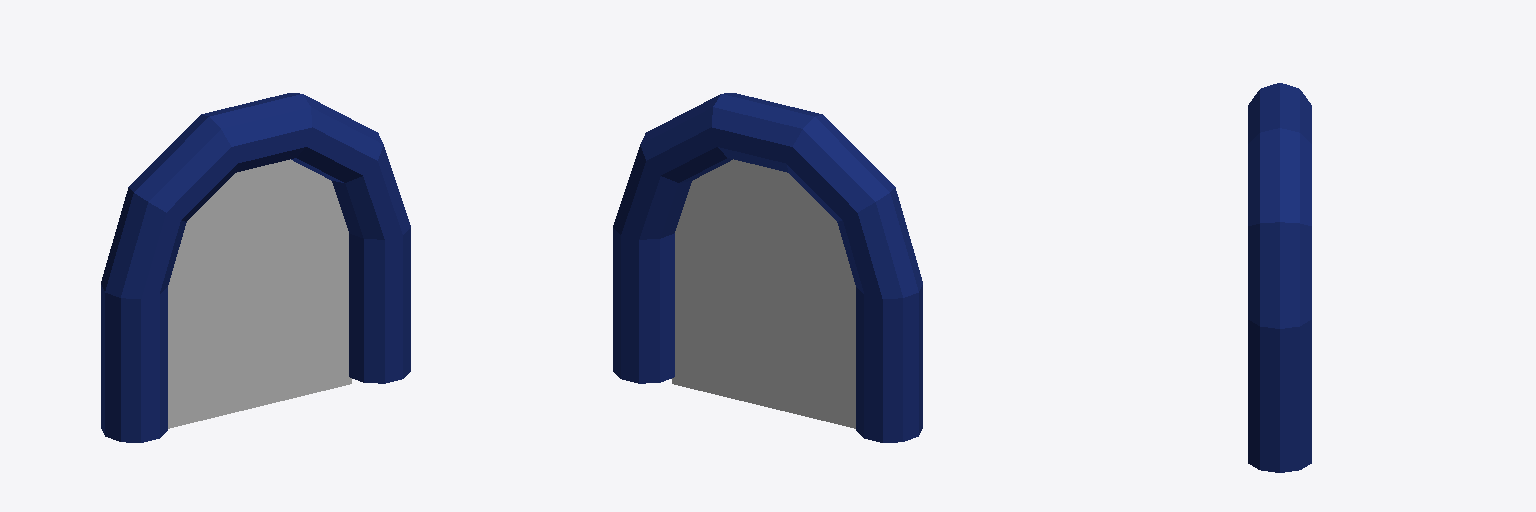
Rendered from PortalObject.obj.
3 renders of one model, left to right at view 1: azimuth 30°, elevation 25°; view 2: azimuth 150°, elevation 25°; view 3: azimuth 270°, elevation 25°, orthographic.
Parts seen in each view (by area): view 1: PortalFrame, PortalFrame Portal; view 2: PortalFrame, PortalFrame Portal; view 3: PortalFrame.
Part boxes in pixels (bbox=[...]): PortalFrame: bbox=[101, 93, 410, 442]; PortalFrame Portal: bbox=[168, 159, 351, 428]; PortalFrame: bbox=[613, 93, 922, 442]; PortalFrame Portal: bbox=[672, 159, 855, 428]; PortalFrame: bbox=[1248, 83, 1311, 472].
Size of the model in its own units: 2.49 by 2.37 by 0.4596.